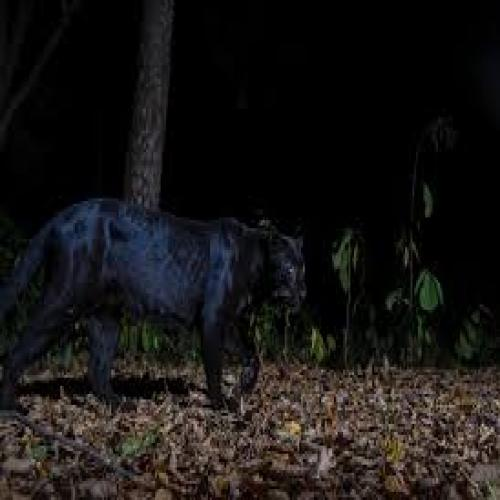panther-endangered: (0, 201, 307, 410)
